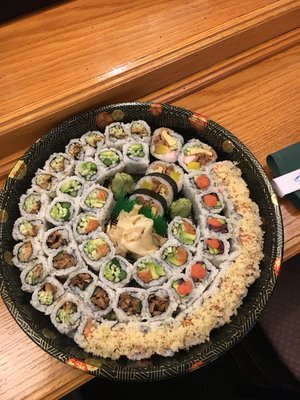curry: (1, 1, 299, 386), (265, 139, 300, 201)
sandwich: (5, 102, 266, 358)
